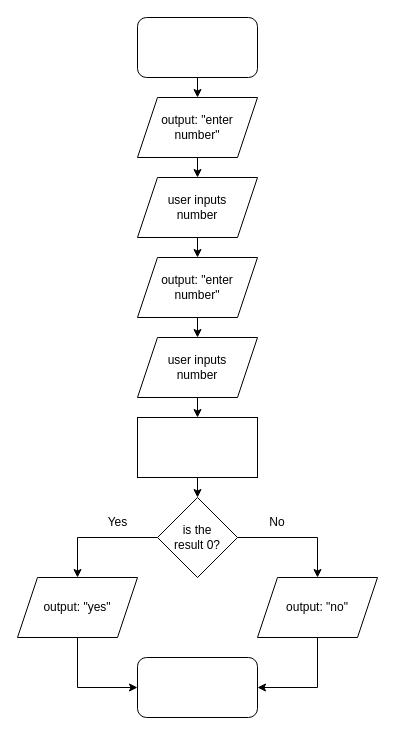
This 395x735 diagram has some shape labels left out. Each missing label, with the centre of its shape:
end: the point at 197,687
number_1 mod number_2: the point at 197,447
start: the point at 197,47
